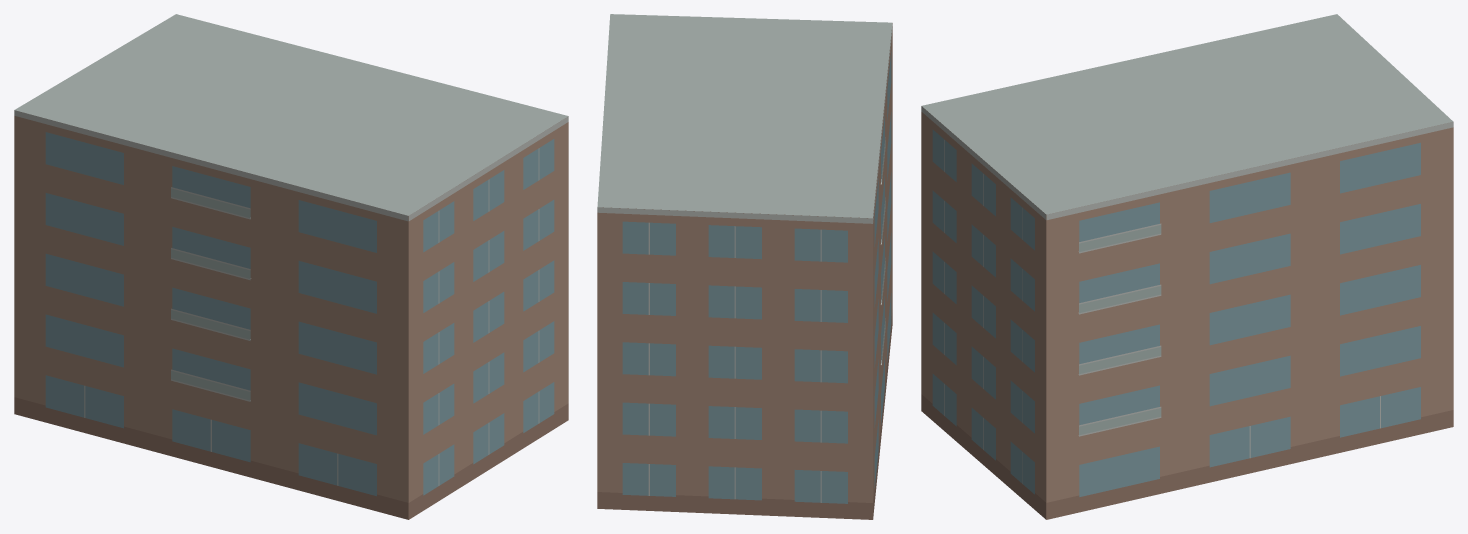
The model's file is survey-upis-32841204.glb.
3 renders of one model, left to right at view 1: azimuth 30°, elevation 25°; view 2: azimuth 150°, elevation 25°; view 3: azimuth 270°, elevation 25°, orthographic.
Visible parts, largest first — view 1: survey-upis-32841204.tmp; view 2: survey-upis-32841204.tmp; view 3: survey-upis-32841204.tmp.
Part boxes in pixels (left/top/right/bottom): survey-upis-32841204.tmp: left=14, top=14, right=568, bottom=519; survey-upis-32841204.tmp: left=597, top=14, right=892, bottom=519; survey-upis-32841204.tmp: left=921, top=14, right=1453, bottom=519.
Size of the model in its own units: 18.62 by 13.2 by 20.87.
